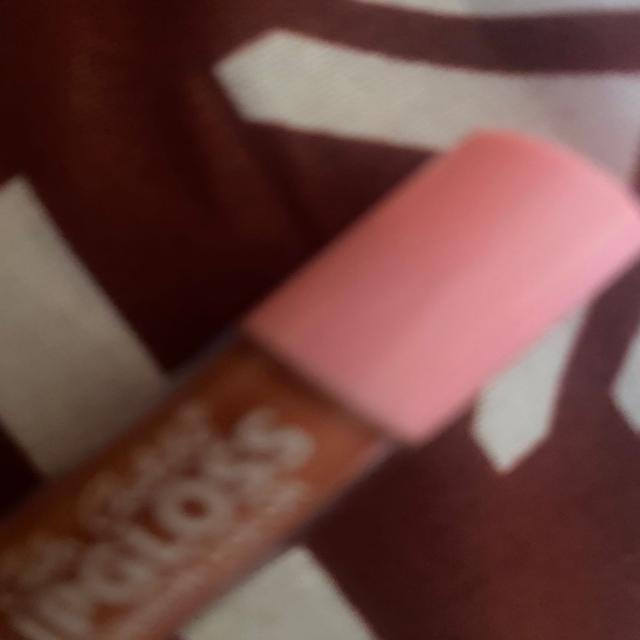lip gloss: (0, 98, 640, 640)
